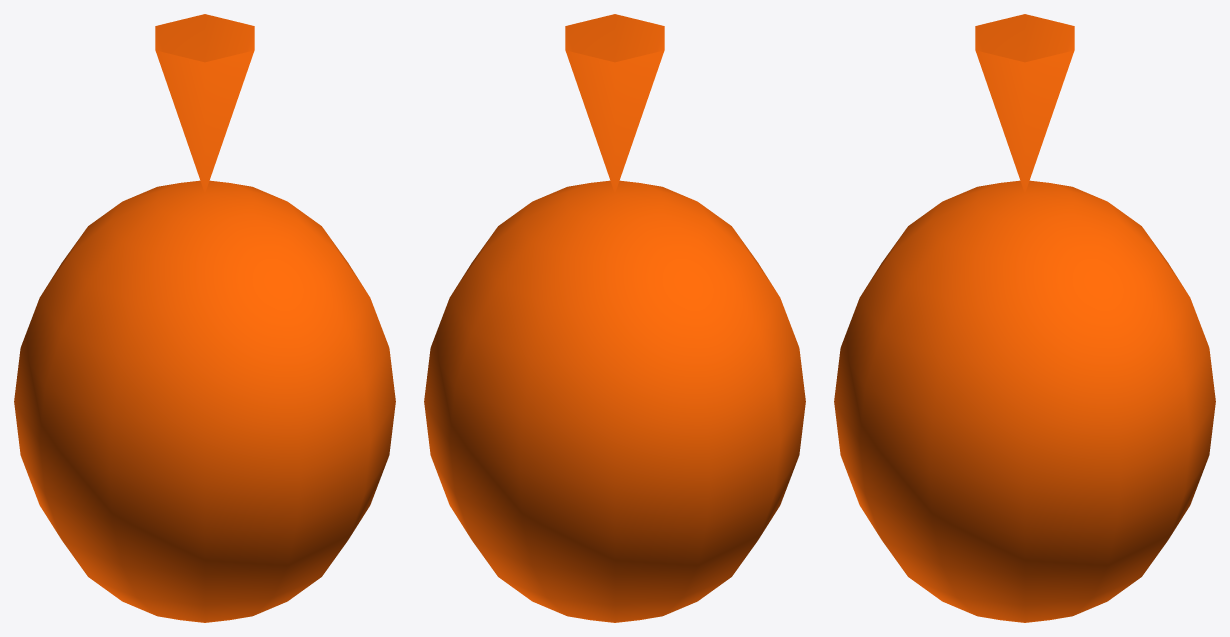
File: Fênix Fuligem_stage2.obj
3 renders of one model, left to right at view 1: azimuth 30°, elevation 25°; view 2: azimuth 150°, elevation 25°; view 3: azimuth 270°, elevation 25°, orthographic.
Bounding box in the file's own units: 2 × 3.3 × 2.
